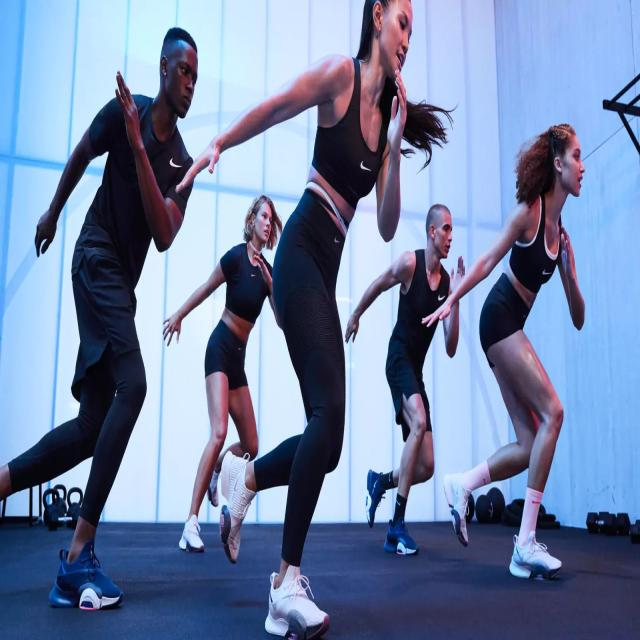nike: (353, 152, 378, 180), (166, 152, 190, 176)
